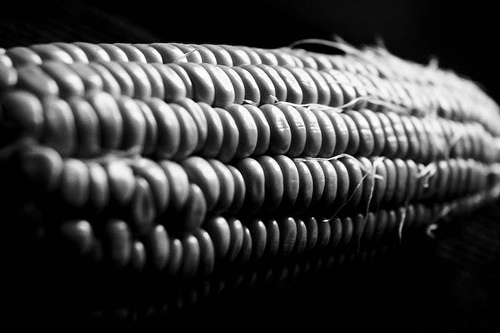corn: (0, 38, 499, 314)
